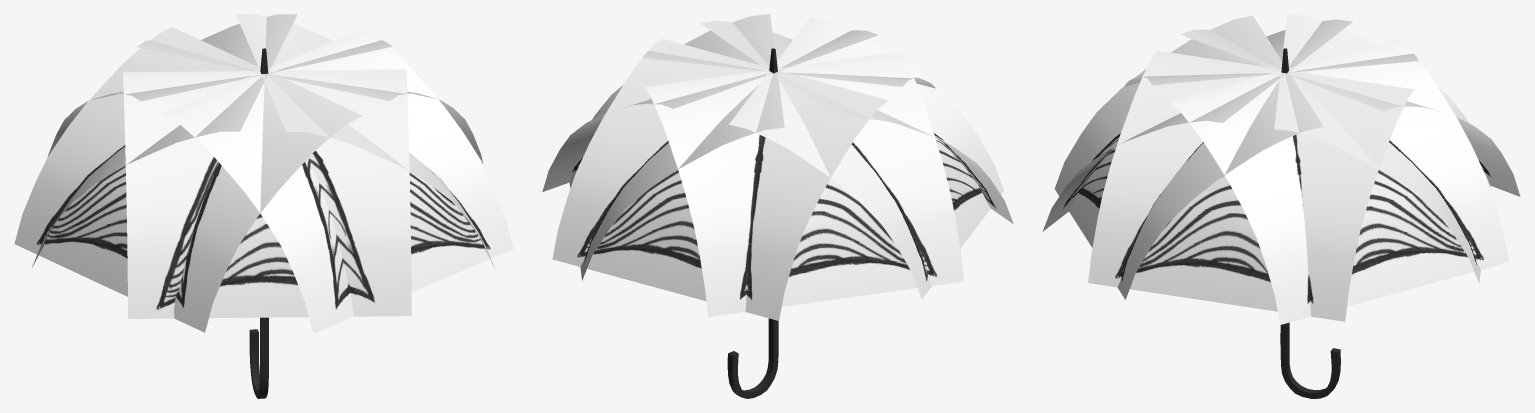
File: ombrelli_alpha_01.dae
3 renders of one model, left to right at view 1: azimuth 30°, elevation 25°; view 2: azimuth 150°, elevation 25°; view 3: azimuth 270°, elevation 25°, orthographic. The views are drawn at different scales.
Parts seen in each view (by area): view 1: ombrello_prova (×7), group1_pPlane8; view 2: ombrello_prova (×7), group1_pPlane8; view 3: ombrello_prova (×7), group1_pPlane8.
Part boxes in pixels (x1,y1,x2,y2): ombrello_prova (×7): (14,14,513,333); group1_pPlane8: (249,48,268,398); ombrello_prova (×7): (542,14,1013,320); group1_pPlane8: (727,48,778,398); ombrello_prova (×7): (1042,14,1520,324); group1_pPlane8: (1280,48,1340,398).
Size of the model in its own units: 25.17 by 19.72 by 24.83.
Materials: 2 (1 with a texture image).
